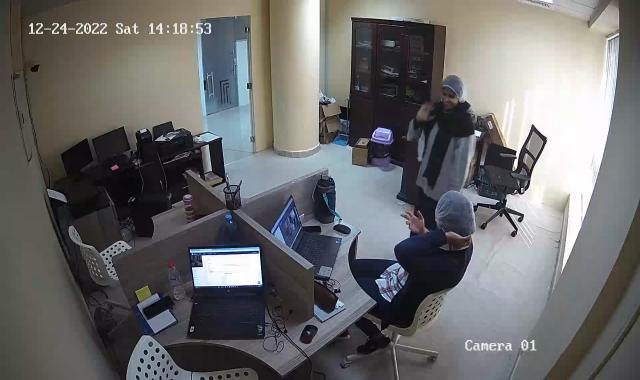hairnet: (432, 189, 474, 245), (439, 76, 465, 107)
